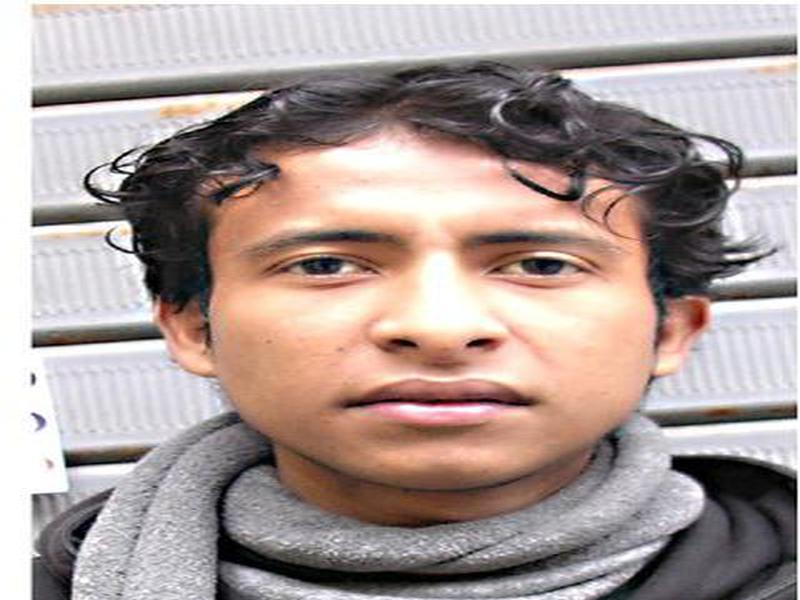without_mask: (206, 140, 651, 501)
